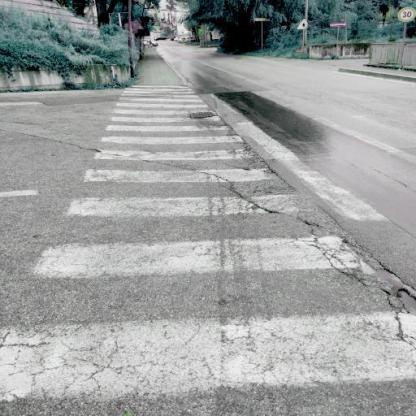crosswalk: (37, 185, 373, 291), (93, 124, 251, 148)
